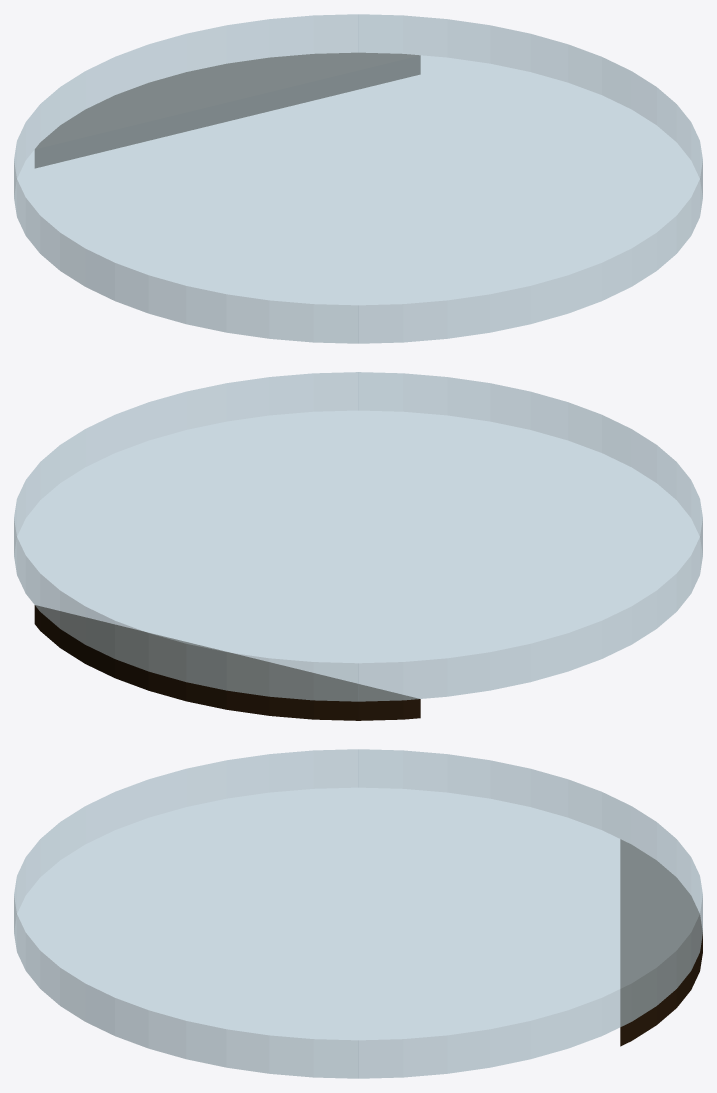
The model's file is sight_glass_low.glb.
3 views of the same model, one above another, from view 1: azimuth 30°, elevation 25°; view 2: azimuth 150°, elevation 25°; view 3: azimuth 270°, elevation 25° (orthographic).
Parts seen in each view (by area): view 1: sight_glass_low; view 2: sight_glass_low; view 3: sight_glass_low.
Boxes of the visible parts, left/top/right/bottom form: sight_glass_low: left=14, top=14, right=702, bottom=343; sight_glass_low: left=14, top=372, right=702, bottom=720; sight_glass_low: left=14, top=749, right=702, bottom=1078.
Size of the model in its own units: 0.13 by 0.012 by 0.13.
